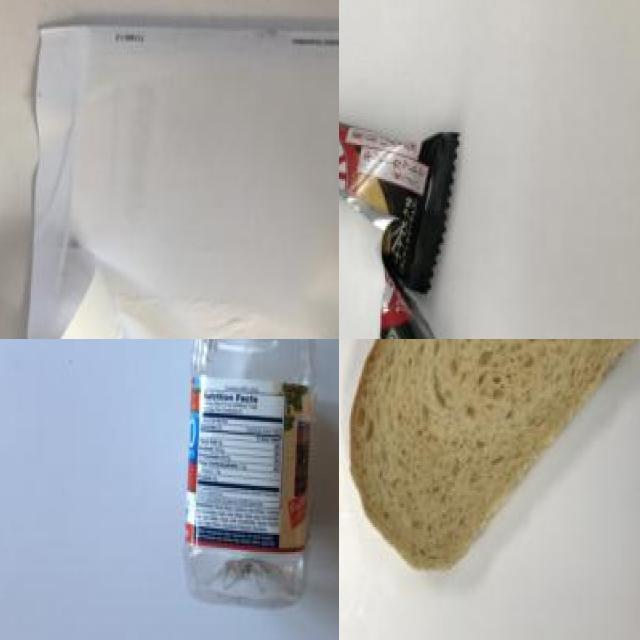compost: (346, 339, 640, 568)
paper: (29, 24, 339, 339)
plastic: (178, 339, 336, 609)
trash: (339, 69, 499, 339)
